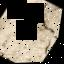Purslane: (10, 1, 64, 63)
